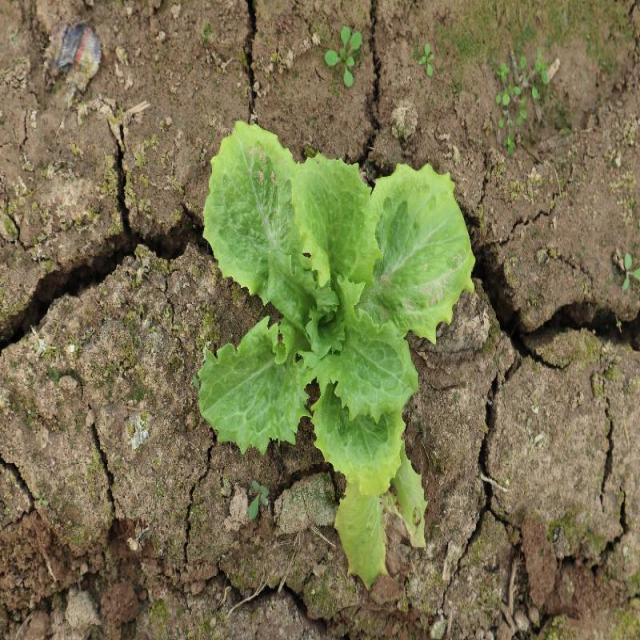crop: (200, 123, 475, 583)
